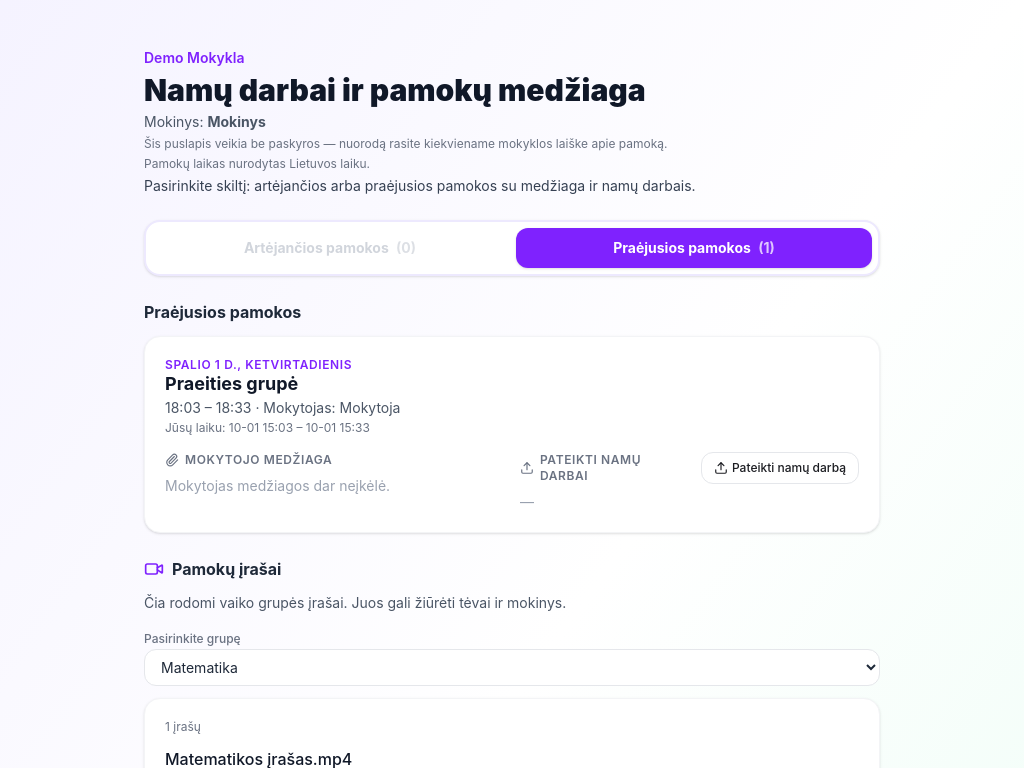
Test: school homework lesson navigation › keeps lesson tabs when recordings are present and shows one group player at a time
The image size is (1024, 768).
Expected: the tab "Praėjusios pamokos (1)" is shown, [516,228,872,268]
Expected: the heading "Praeities grupė" is shown, [165,373,298,394]
Select "Anglų" in the dropdown labelled "Pasirinkite grupę": (512, 667) [144,648,880,686]
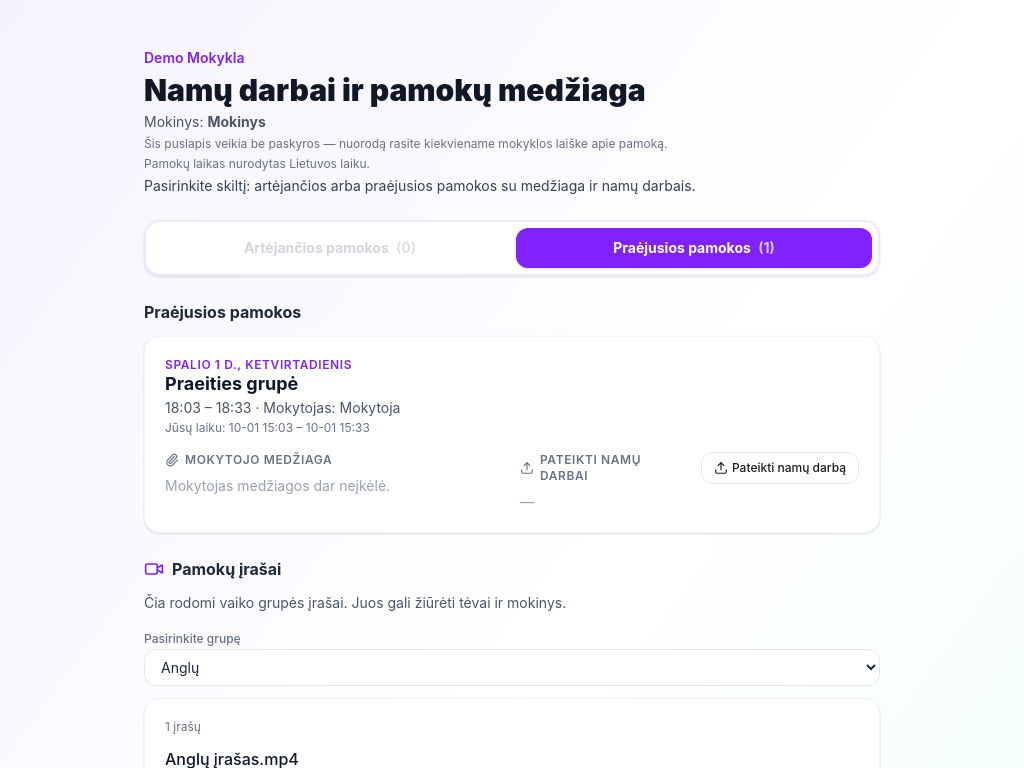
Expected: the tab "Praėjusios pamokos (1)" is shown, [516,228,872,268]
Now the text "Anglų įrašas.mp4" is shown, box [165,748,299,767]
